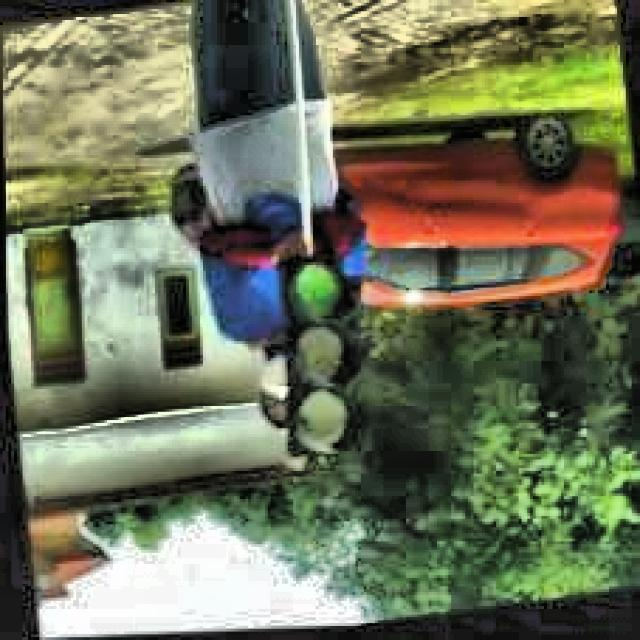green: (269, 256, 374, 459)
